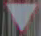Give way: (2, 0, 40, 34)
